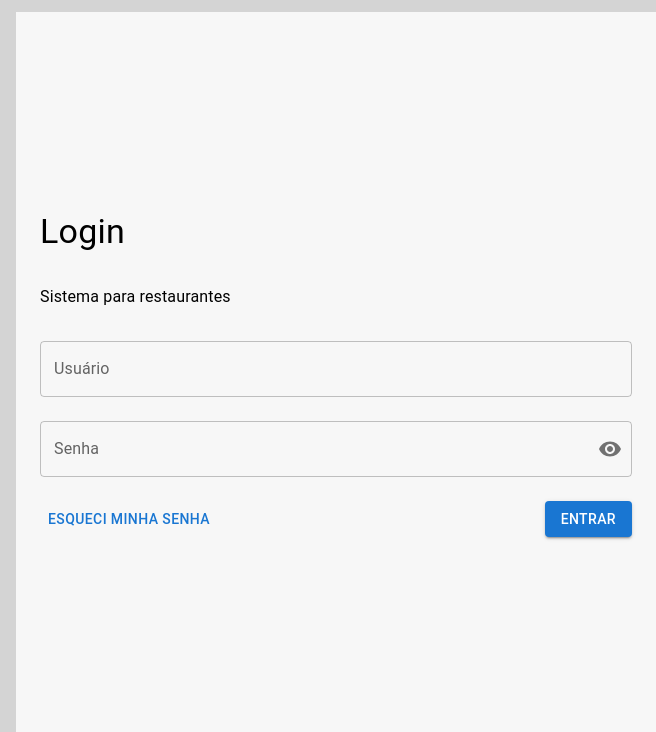
Login Page › Deve fazer o toggle de ocultar e exibir senha ao clicar no ícone de olho
Expected: the icon with test id "visibility" is shown, x1=598 y1=437 x2=622 y2=461
Click the button named "toggle password visibility" at (610, 449), box x1=590 y1=429 x2=630 y2=469
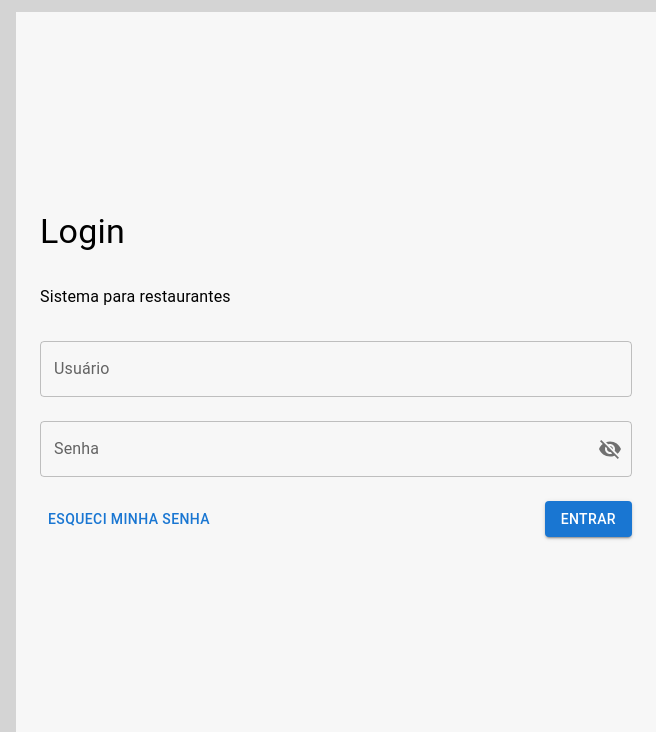
Expected: the icon with test id "visibilityOff" is shown, x1=598 y1=437 x2=622 y2=461
Expected: the icon with test id "visibility" is gone
